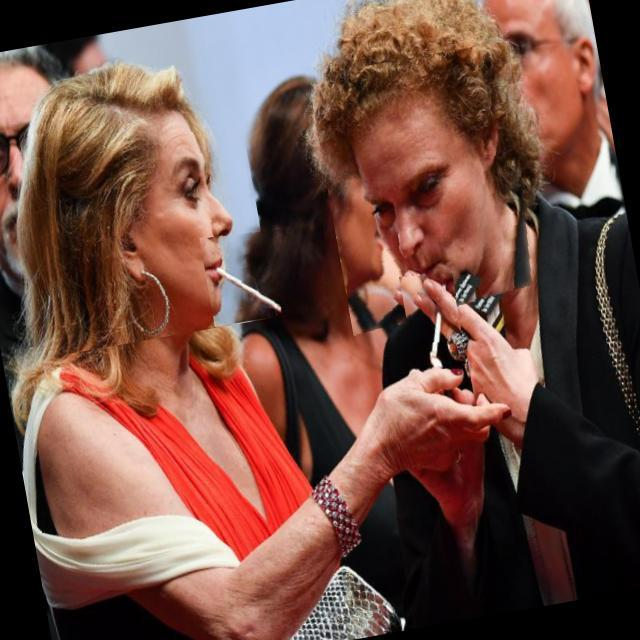cigarette: (199, 223, 300, 326), (399, 267, 468, 373)
